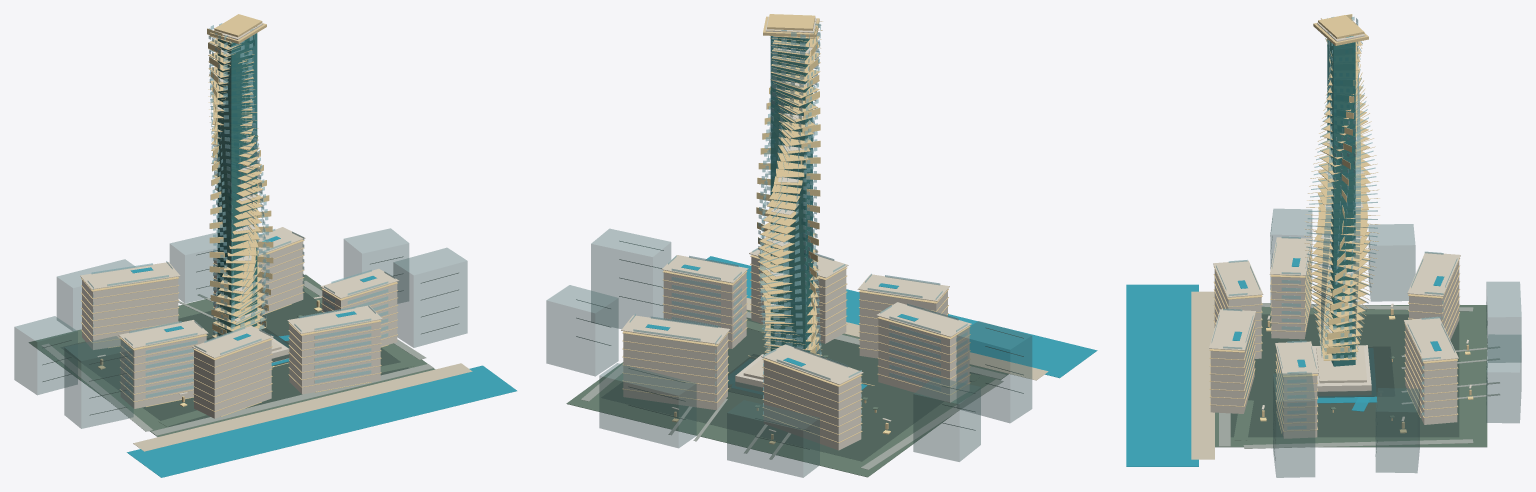
3 renders of one model, left to right at view 1: azimuth 30°, elevation 25°; view 2: azimuth 150°, elevation 25°; view 3: azimuth 270°, elevation 25°, orthographic. The views are drawn at different scales.
Parts seen in each view (by area): view 1: Rainbow Tel Aviv illustrative showroom massing; view 2: Rainbow Tel Aviv illustrative showroom massing; view 3: Rainbow Tel Aviv illustrative showroom massing.
Part boxes in pixels (box(x1,y1,x2,y2)): Rainbow Tel Aviv illustrative showroom massing: box(14, 14, 516, 477); Rainbow Tel Aviv illustrative showroom massing: box(546, 14, 1097, 477); Rainbow Tel Aviv illustrative showroom massing: box(1126, 14, 1521, 477).
Size of the model in its own units: 168 by 138 by 141.
